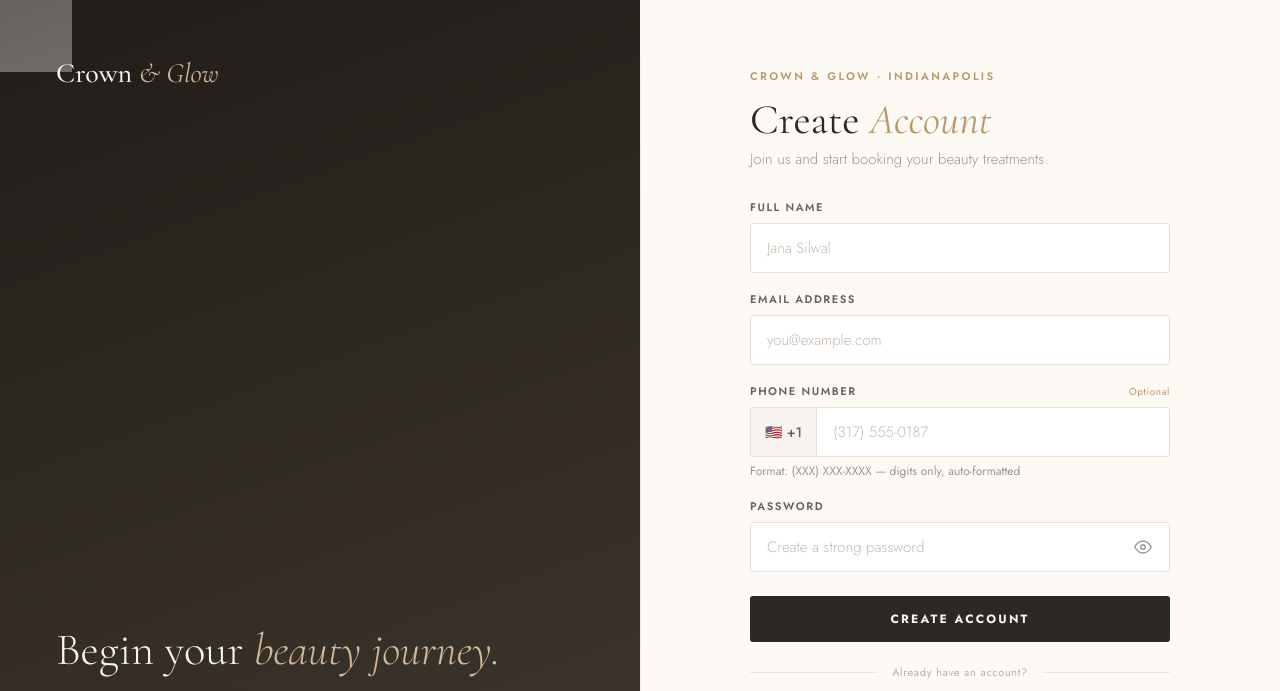
Test: <RegisterPage /> › flags a reserved area code once the phone field has been touched
This screenshot has width=1280, height=691.
Type "9115550187" into the field labelled "Phone Number Optional".
click(993, 432); type("9115550187")  # box [816,407,1170,457]
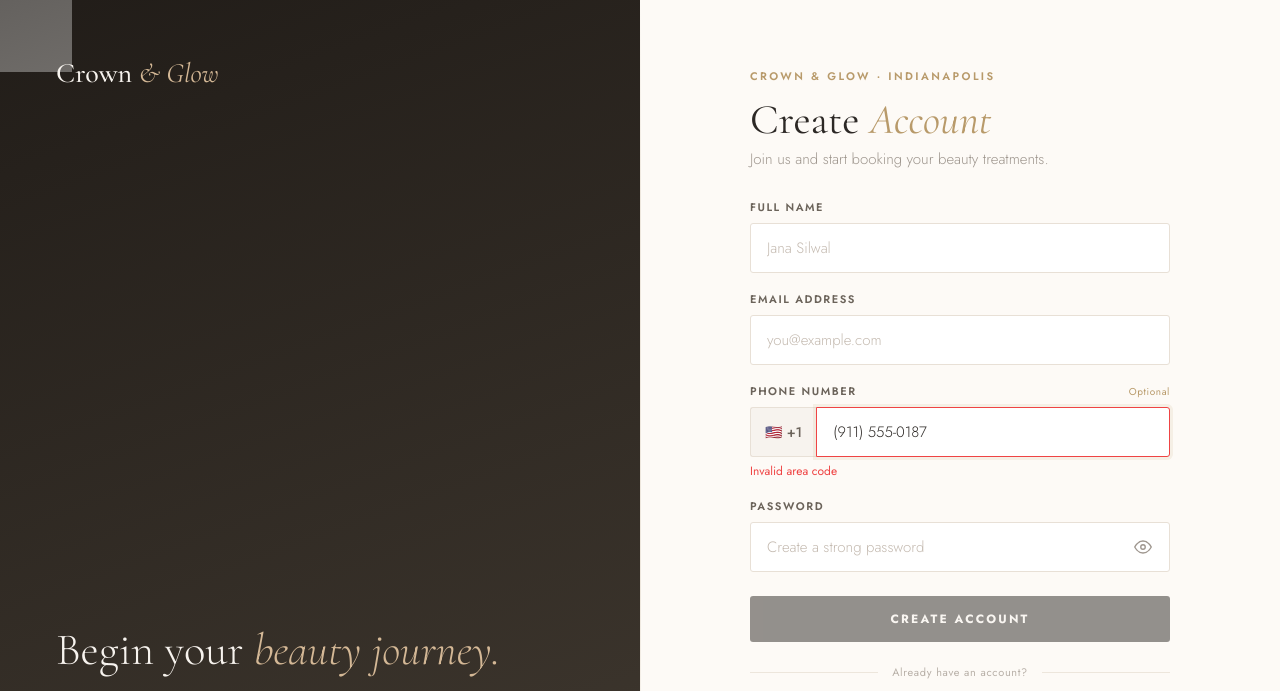
Now the text "Invalid area code" is shown, box [750,462,837,480]
